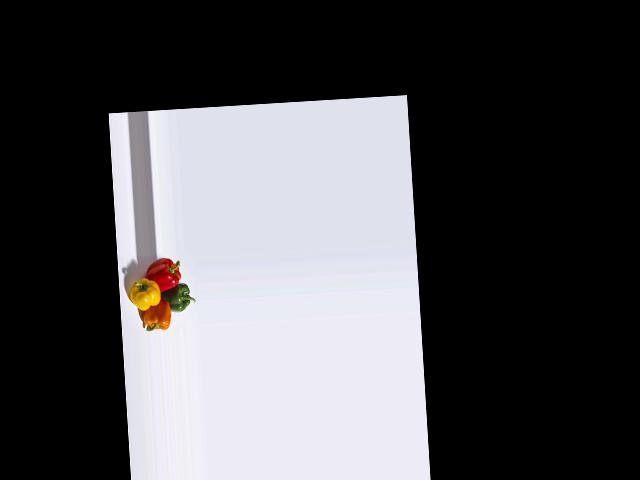bell_pepper: (144, 255, 185, 292)
